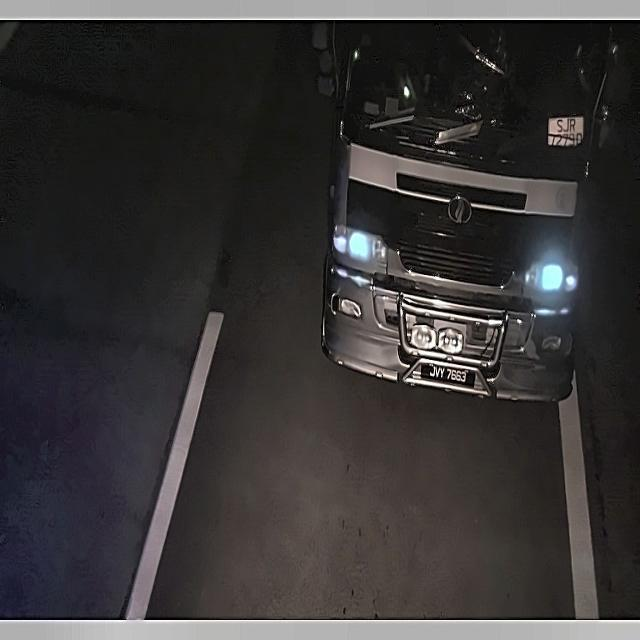car: (419, 354, 478, 397)
